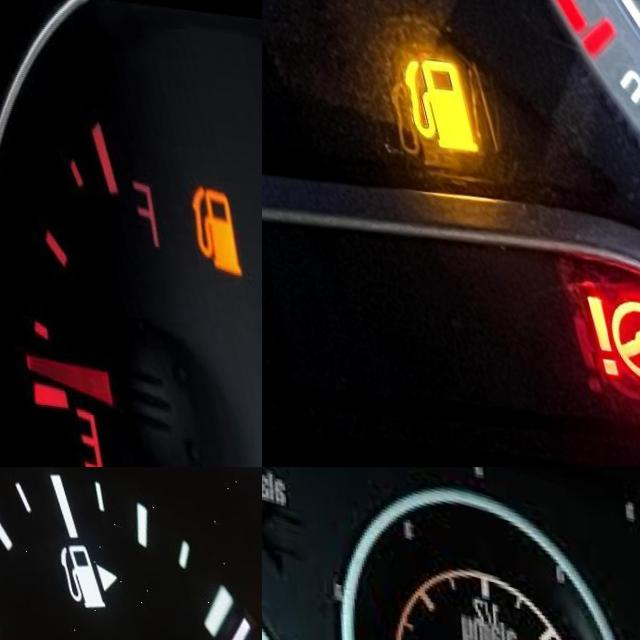Electronic Power Steering: (548, 267, 640, 390)
